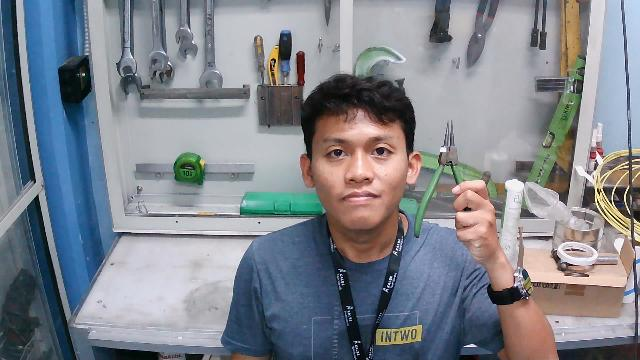tang_cucut_lancip_2: (408, 109, 476, 249)
